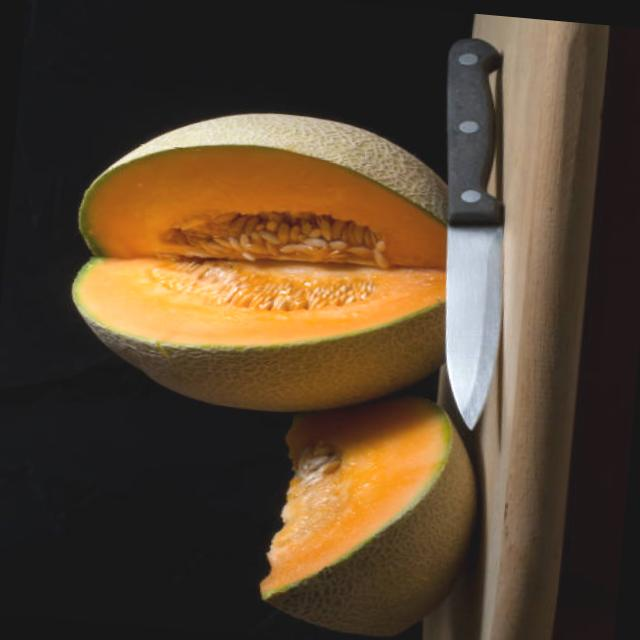cantaloupe: (60, 95, 452, 422), (258, 388, 484, 636)
